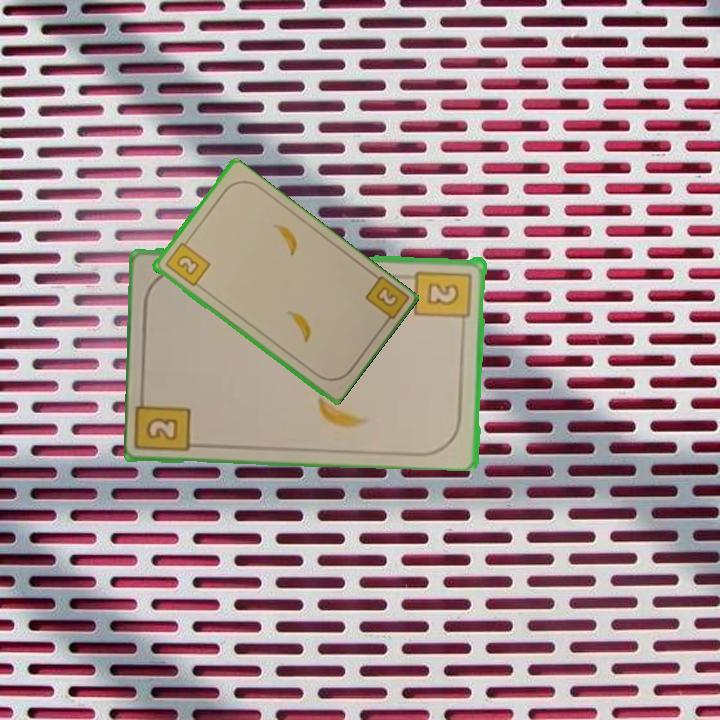2b: (413, 266, 475, 330), (161, 235, 213, 290), (361, 272, 409, 330), (142, 413, 182, 444)
